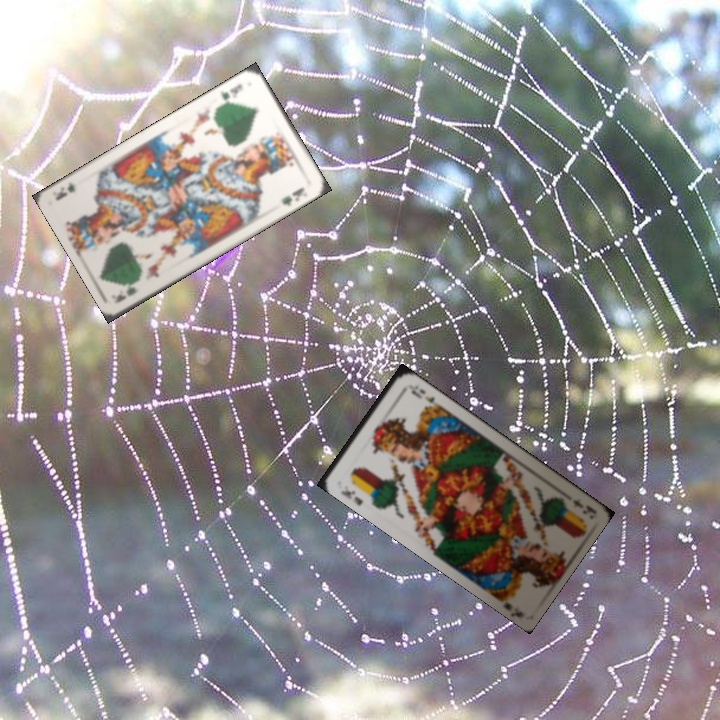EK: (337, 486, 365, 508), (568, 496, 596, 517)
GK: (215, 80, 246, 108), (112, 282, 137, 305)
